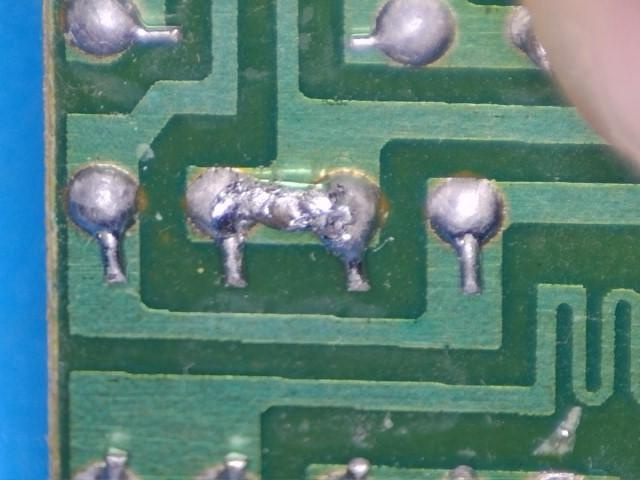pcb_defect: (187, 170, 377, 262)
